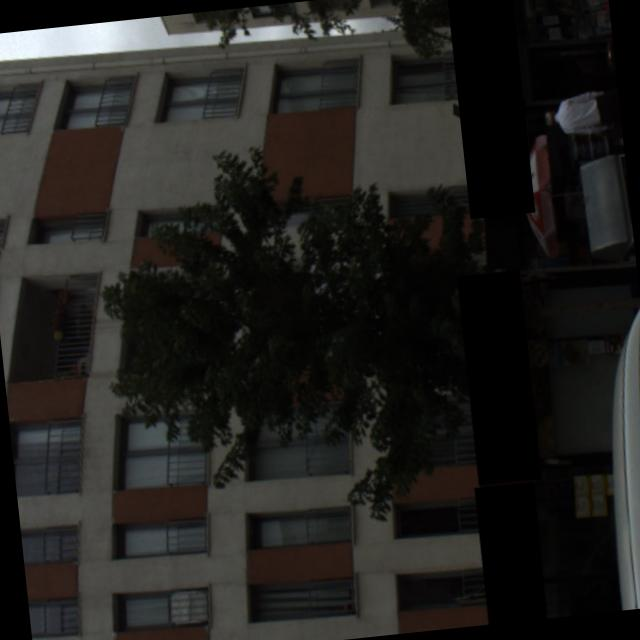SignStore: (473, 268, 537, 484), (460, 0, 521, 218), (480, 480, 544, 624)
